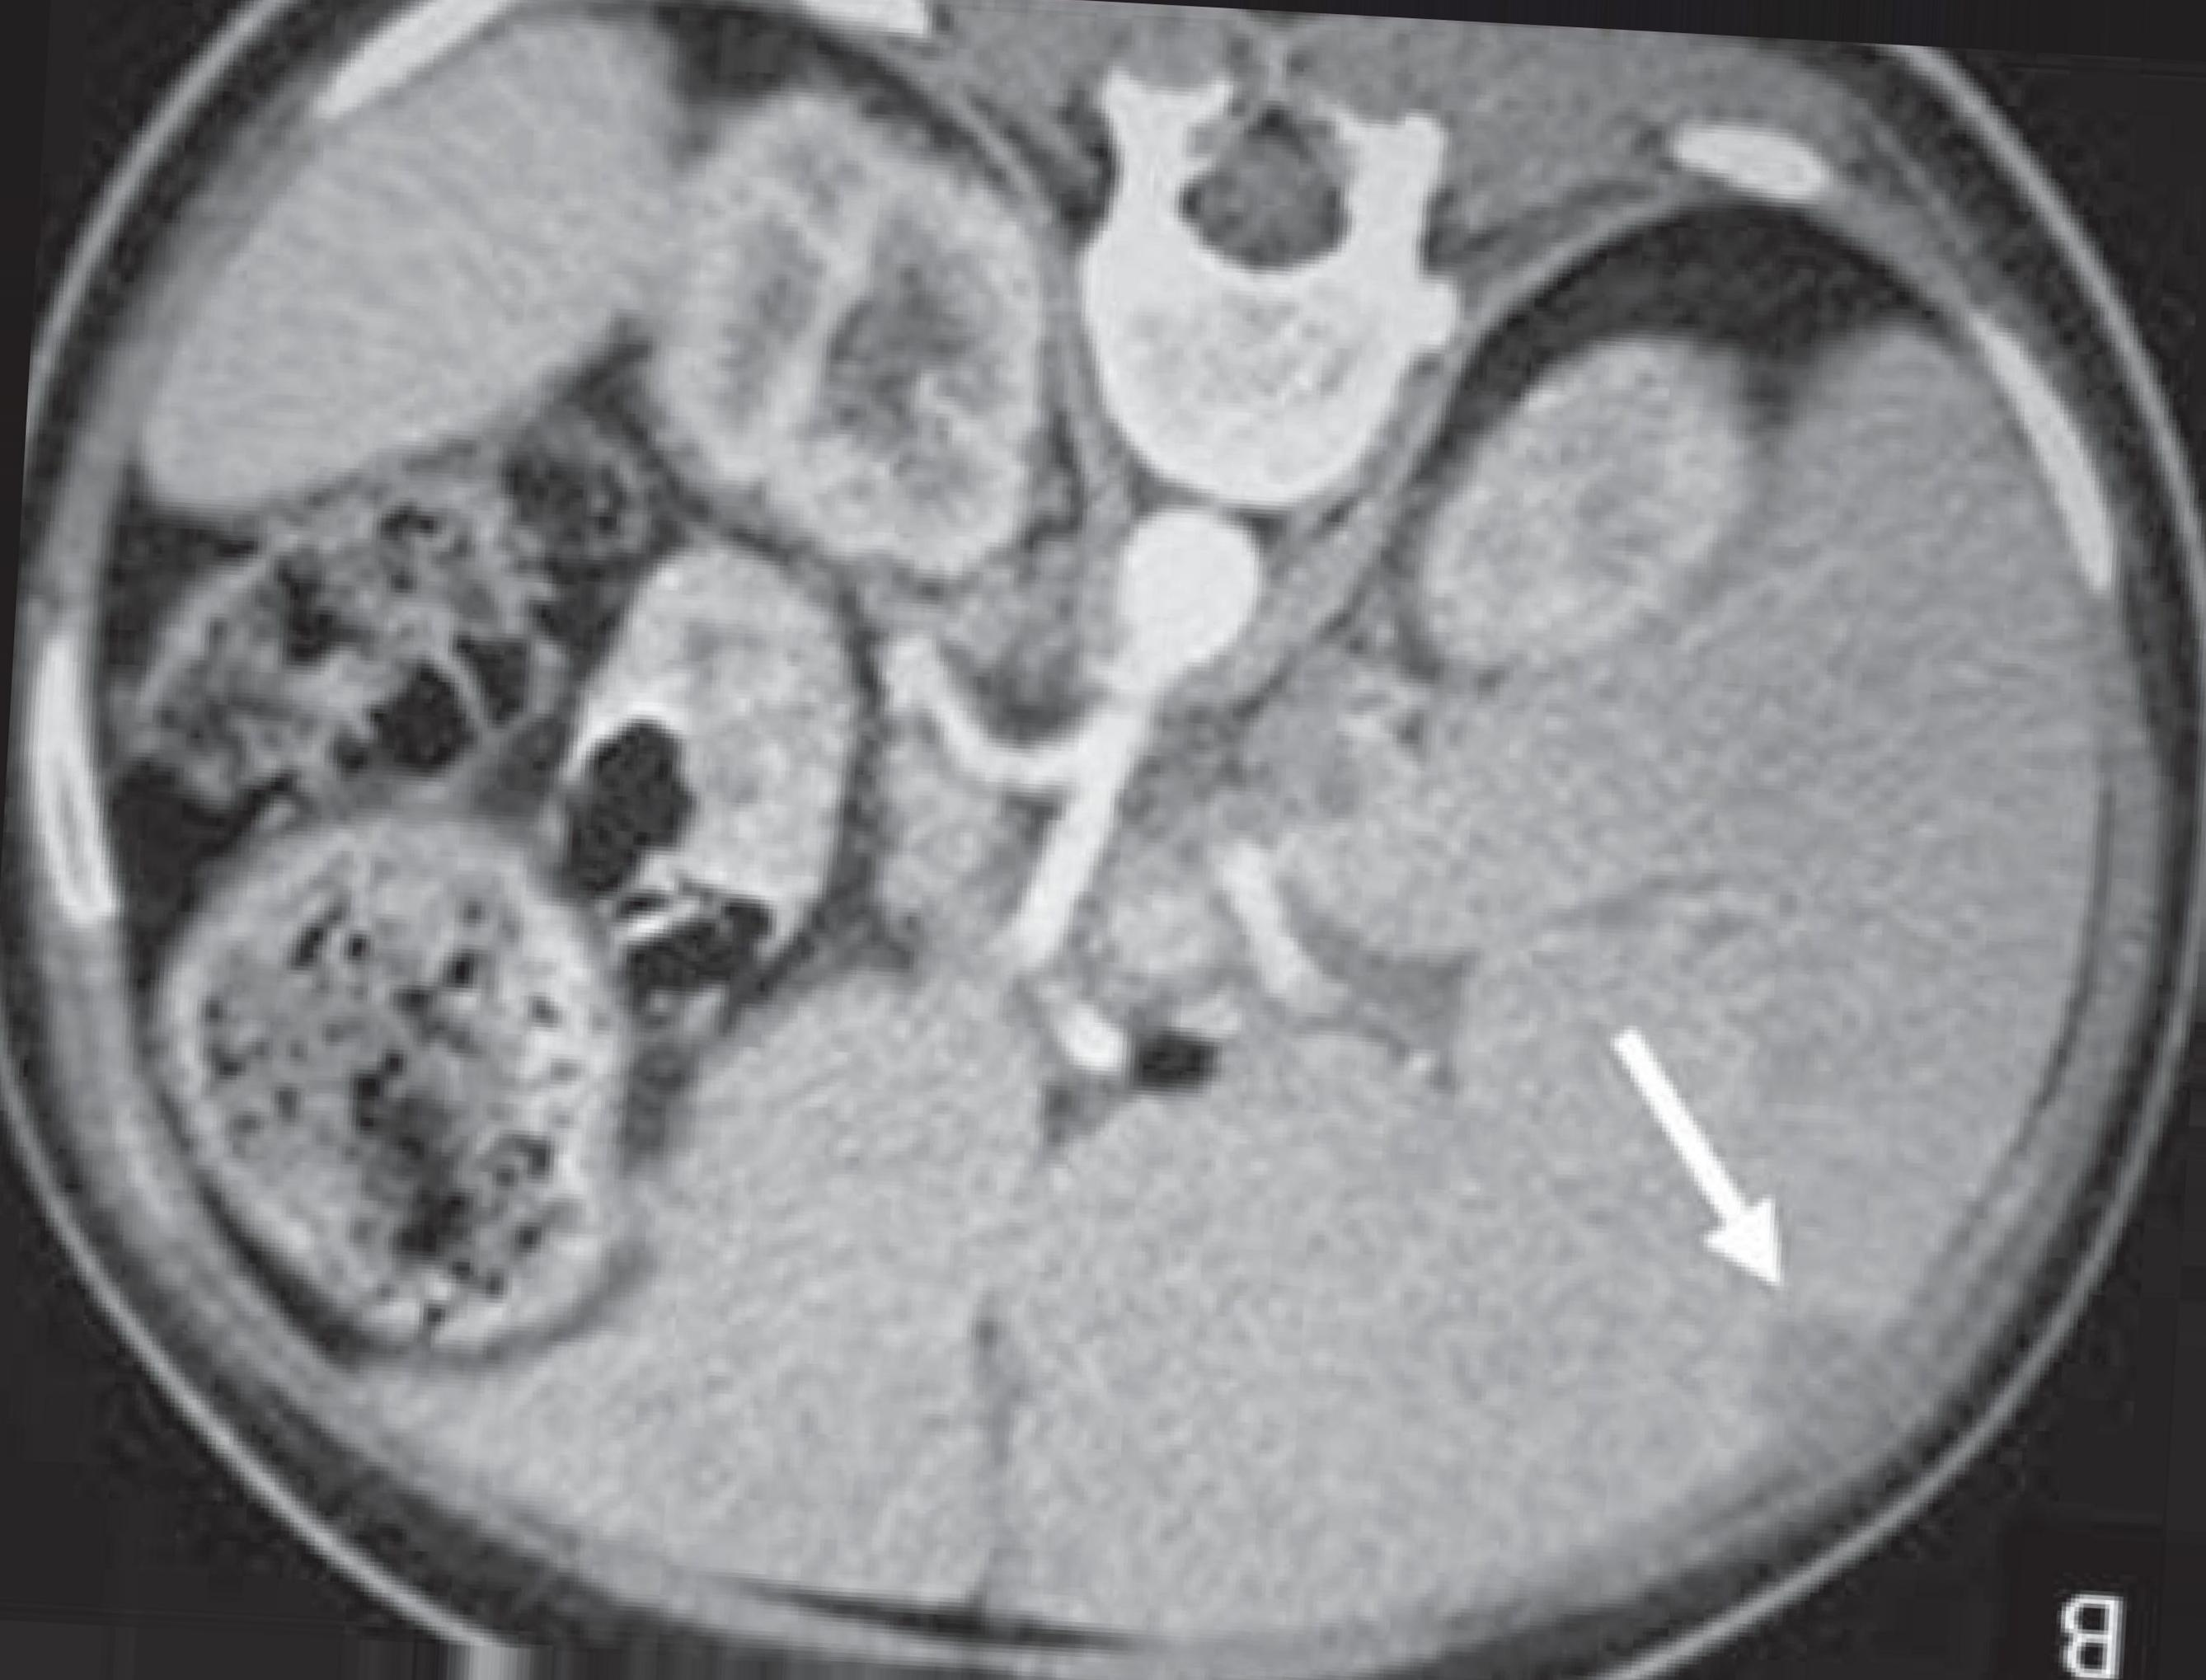anomaly: (1742, 1336, 1918, 1458)
